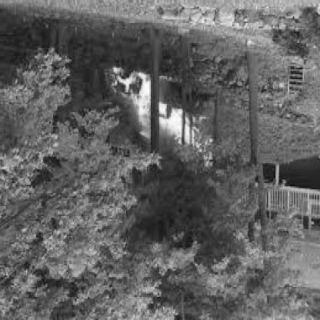Fire: (101, 63, 222, 176)
